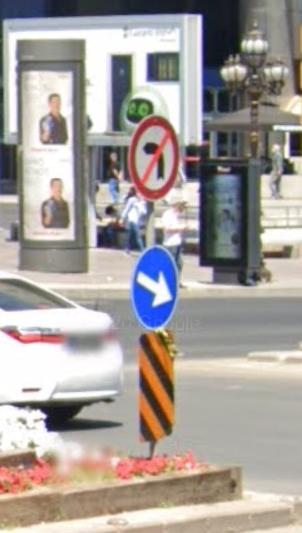leftturnsareforbidden: (128, 114, 183, 195)
